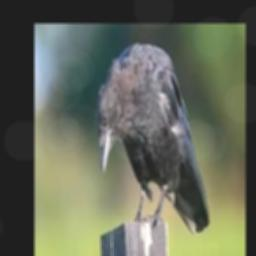Crow: (97, 42, 210, 234)
